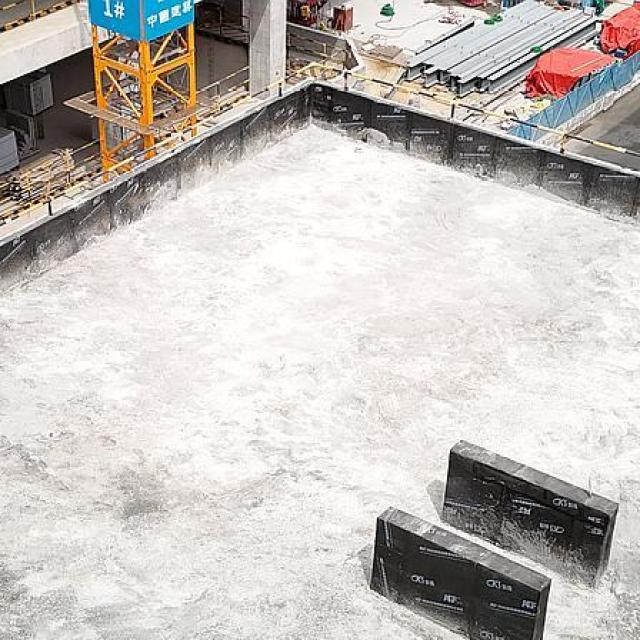edge_guardrail: (0, 57, 640, 230), (0, 138, 103, 219), (195, 66, 251, 121), (0, 0, 36, 16)
